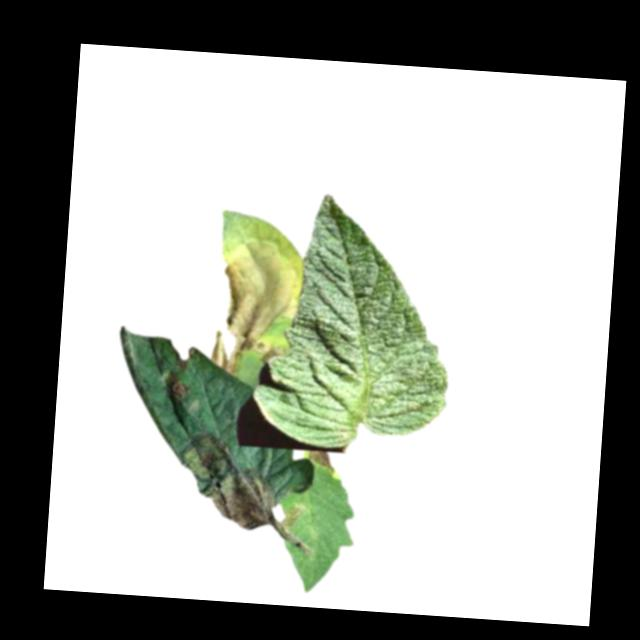Late_blight: (208, 236, 293, 380), (184, 429, 281, 533), (164, 368, 192, 399), (307, 448, 333, 470)
healthy: (248, 189, 459, 457)
